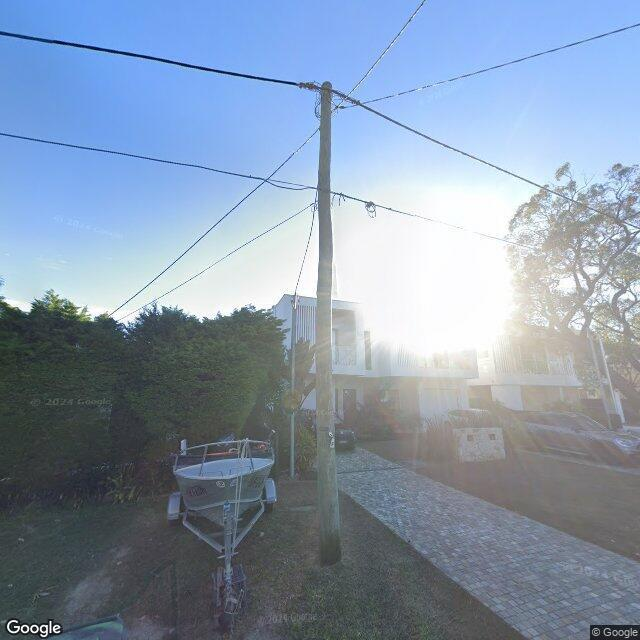steel-pole: (290, 297, 298, 478)
timber-pole: (317, 82, 344, 566)
